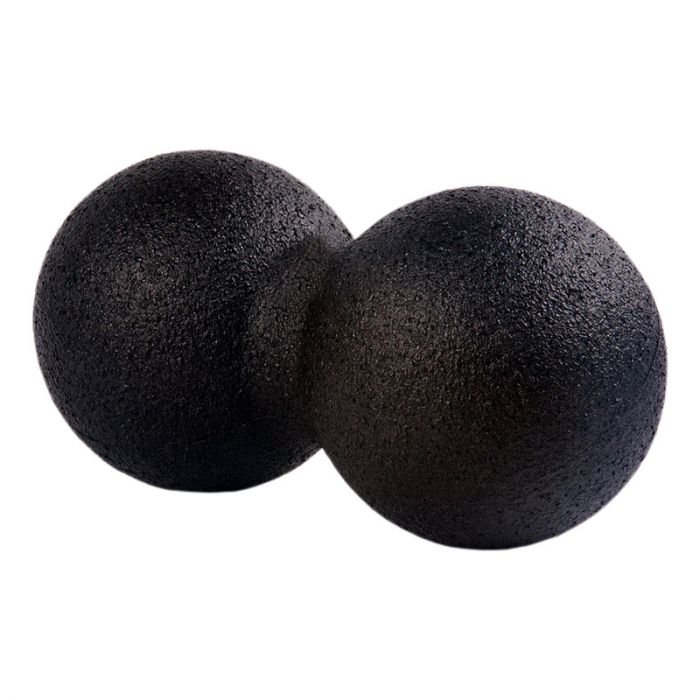sphere: (323, 186, 667, 551), (33, 149, 354, 493)
